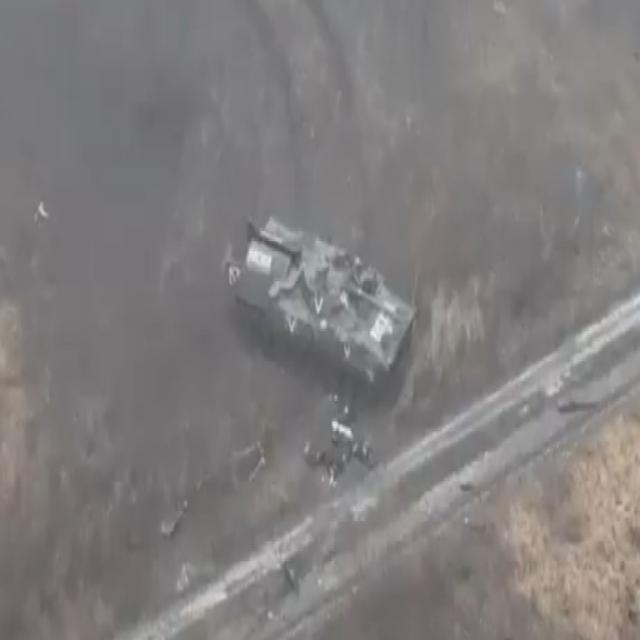APC-IFV: (231, 204, 420, 400)
